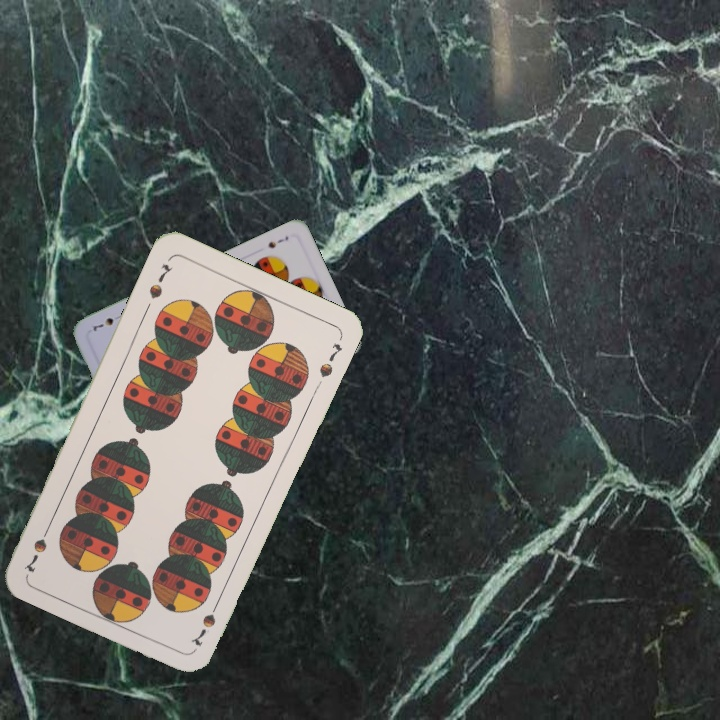S7: (187, 596, 223, 649), (145, 260, 176, 302), (264, 231, 291, 251)
